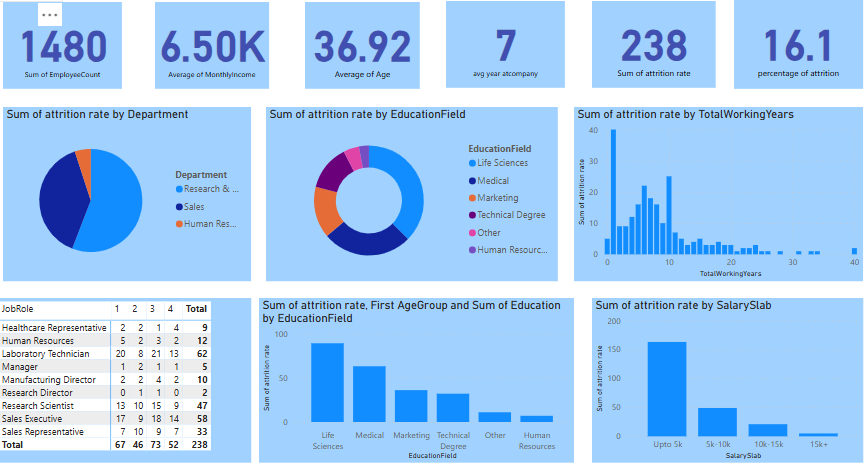

Layout of this report page (visuals, bound fields, positions):
{"tool":"powerbi","page":{"name":"Page 1","canvas":[1280,720],"ordinal":0},"visuals":[{"type":"card","fields":{"Values":["Sum(HR_Analytics (2) (2).EmployeeCount)"]},"box":[11.7,39.5,174.1,127.3],"z":0},{"type":"card","fields":{"Values":["Avg(HR_Analytics (2) (2).MonthlyIncome)"]},"box":[234.1,39.5,166.8,127.3],"z":1000},{"type":"actionButton","box":[0,0,100,40],"z":2000},{"type":"card","fields":{"Values":["Avg(HR_Analytics (2) (2).Age)"]},"box":[453.7,39.5,168.3,127.3],"z":3000},{"type":"card","fields":{"Values":["Avg(HR_Analytics (2) (2).YearsAtCompany)"]},"box":[660,38,174.1,127.3],"z":4000},{"type":"pieChart","fields":{"Y":["Sum(HR_Analytics (2) (2).attrition rate)"],"Category":["HR_Analytics (2) (2).Department"]},"box":[11.7,193.2,362.9,254.6],"z":5000},{"type":"card","fields":{"Values":["Sum(HR_Analytics (2) (2).attrition rate)"]},"box":[873.7,38,181.5,127.3],"z":6000},{"type":"columnChart","fields":{"Y":["Sum(HR_Analytics (2) (2).attrition rate)"],"Category":["HR_Analytics (2) (2).SalarySlab"]},"box":[873.7,472.7,396.6,241.5],"z":7000},{"type":"columnChart","fields":{"Y":["Sum(HR_Analytics (2) (2).attrition rate)"],"Category":["HR_Analytics (2) (2).EducationField"]},"box":[386.3,472.7,461,241.5],"z":8000},{"type":"columnChart","fields":{"Category":["HR_Analytics (2) (2).TotalWorkingYears"],"Y":["Sum(HR_Analytics (2) (2).attrition rate)"]},"box":[847.3,193.2,422.9,254.6],"z":9000},{"type":"pivotTable","fields":{"Rows":["HR_Analytics (2) (2).JobRole"],"Values":["Sum(HR_Analytics (2) (2).attrition rate)"],"Columns":["HR_Analytics (2) (2).JobSatisfaction"]},"box":[0,472.7,374.6,241.5],"z":10000},{"type":"card","fields":{"Values":["HR_Analytics (2) (2).percentage of attrition"]},"box":[1081.5,36.6,188.8,130.2],"z":11000},{"type":"donutChart","fields":{"Y":["Sum(HR_Analytics (2) (2).attrition rate)"],"Category":["HR_Analytics (2) (2).EducationField"]},"box":[396.6,193.2,427.3,254.6],"z":12000}]}

Visuals, with their boxes in screenshot pixels (x1, y1, x2, y2):
card - Sum(HR_Analytics (2) (2).EmployeeCount): region(1, 0, 120, 87)
card - Avg(HR_Analytics (2) (2).MonthlyIncome): region(153, 0, 267, 87)
card - Avg(HR_Analytics (2) (2).Age): region(303, 0, 418, 87)
card - Avg(HR_Analytics (2) (2).YearsAtCompany): region(444, 0, 563, 86)
pieChart - Sum(HR_Analytics (2) (2).attrition rate) x HR_Analytics (2) (2).Department: region(1, 105, 249, 279)
card - Sum(HR_Analytics (2) (2).attrition rate): region(590, 0, 714, 86)
columnChart - Sum(HR_Analytics (2) (2).attrition rate) x HR_Analytics (2) (2).SalarySlab: region(590, 296, 861, 461)
columnChart - Sum(HR_Analytics (2) (2).attrition rate) x HR_Analytics (2) (2).EducationField: region(257, 296, 572, 461)
columnChart - HR_Analytics (2) (2).TotalWorkingYears x Sum(HR_Analytics (2) (2).attrition rate): region(572, 105, 861, 279)
pivotTable - HR_Analytics (2) (2).JobRole x Sum(HR_Analytics (2) (2).attrition rate): region(0, 296, 249, 461)
card - HR_Analytics (2) (2).percentage of attrition: region(732, 0, 861, 87)
donutChart - Sum(HR_Analytics (2) (2).attrition rate) x HR_Analytics (2) (2).EducationField: region(264, 105, 556, 279)
